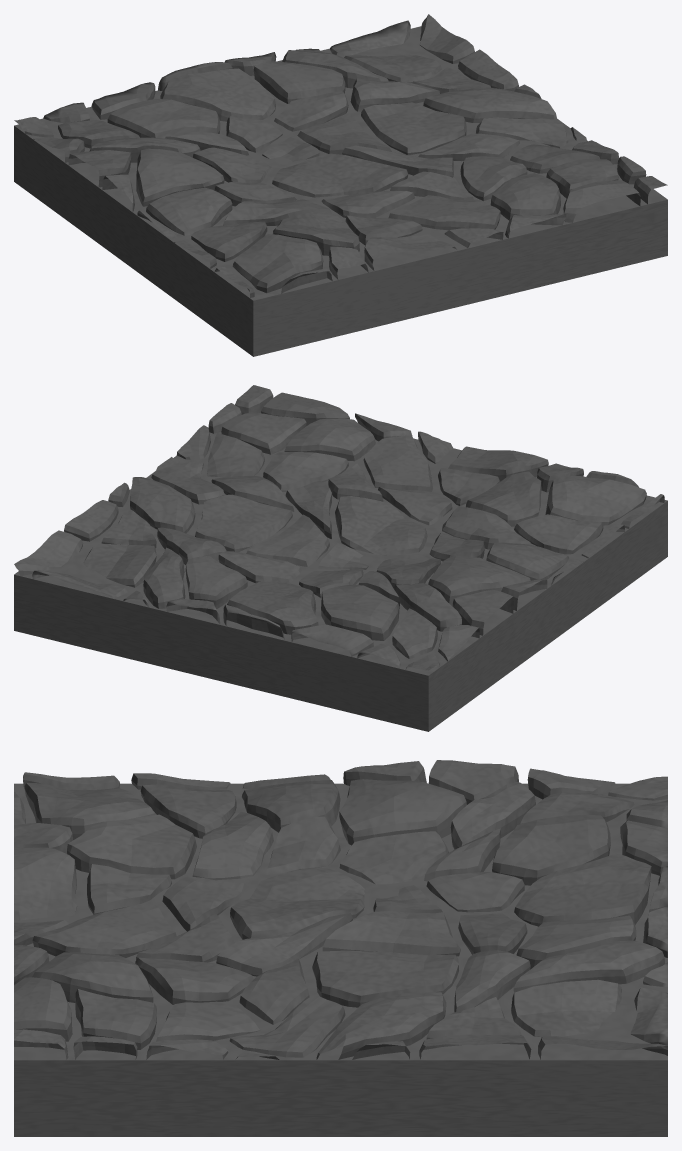
Rendered from block.obj.
3 views of the same model, one above another, from view 1: azimuth 30°, elevation 25°; view 2: azimuth 150°, elevation 25°; view 3: azimuth 270°, elevation 25° (orthographic). The views are drawn at different scales.
Parts seen in each view (by area): view 1: Cube; view 2: Cube; view 3: Cube.
Boxes of the visible parts, x1=… form: Cube: x1=14, y1=14, x2=667, y2=356; Cube: x1=14, y1=385, x2=667, y2=731; Cube: x1=14, y1=760, x2=667, y2=1136.
Bounding box in the file's own units: 1 × 0.1772 × 1.
Materials: 2 (2 with a texture image).
